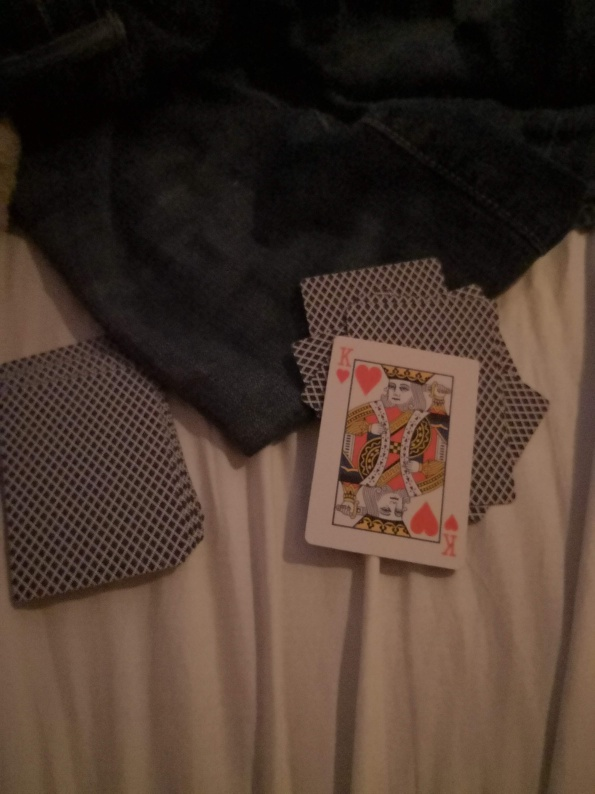king: (302, 334, 482, 572)
